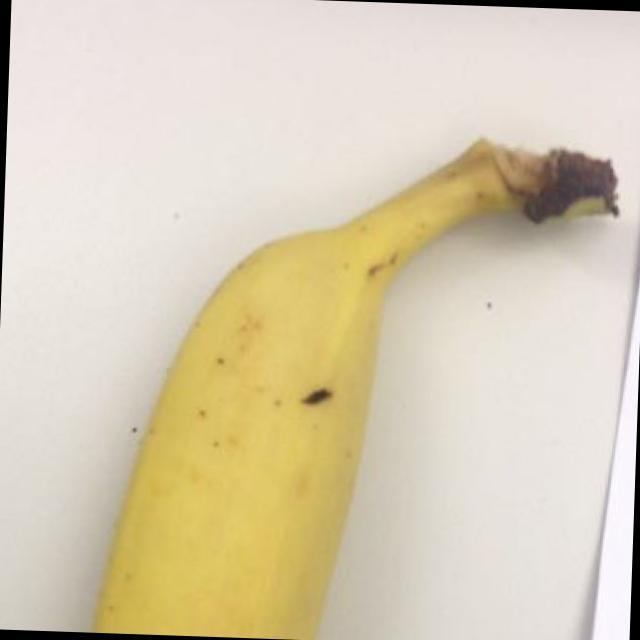Banana: (79, 107, 628, 640)
